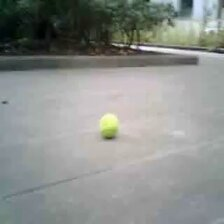tennis: (100, 114, 117, 136)
